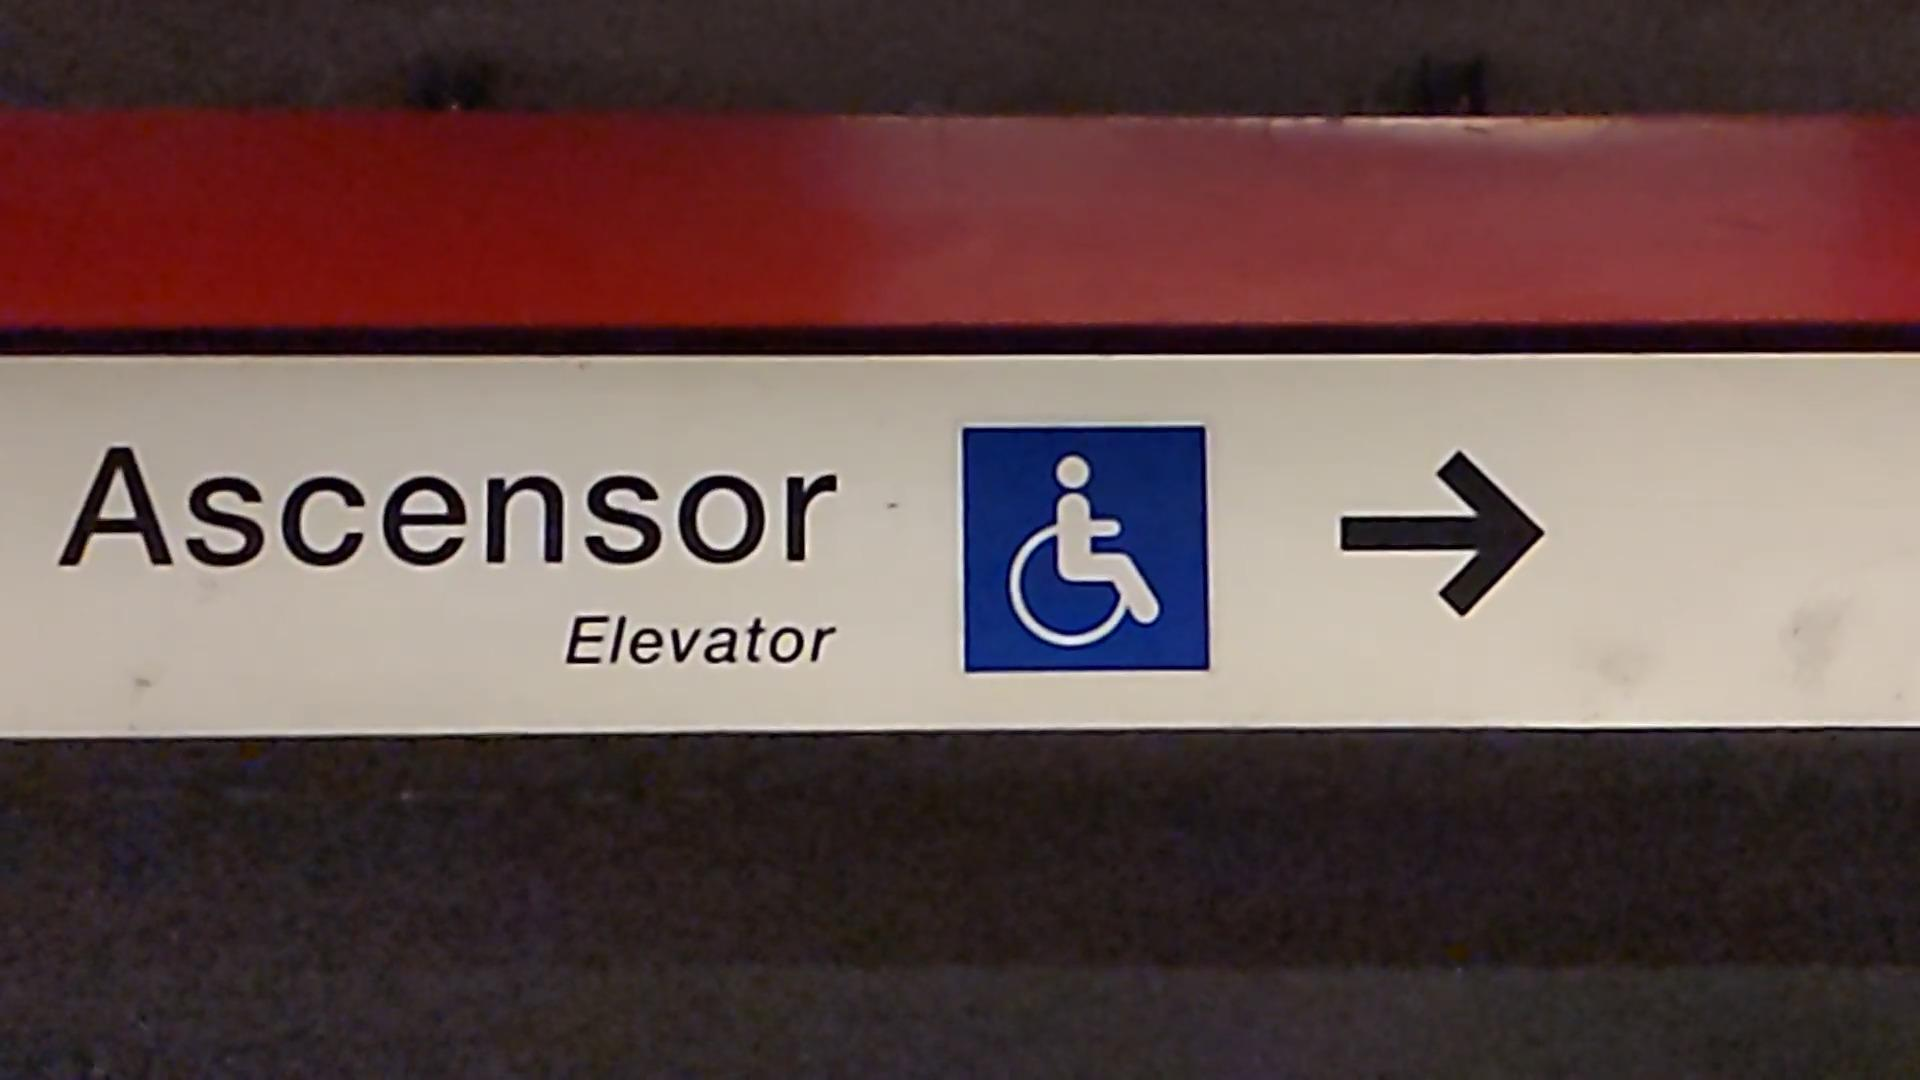right arrow: (1332, 443, 1553, 625), (1004, 454, 1164, 650)
